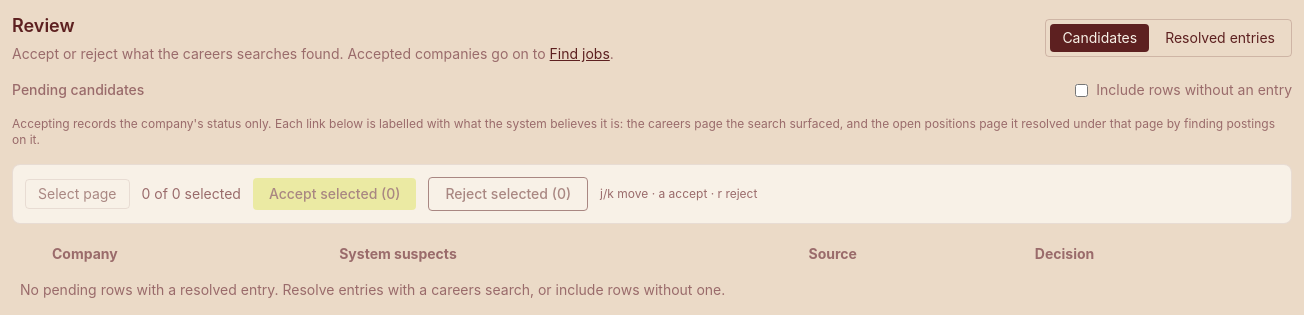
it: demo review screen › says so when no entry has been resolved yet
This screenshot has width=1304, height=315.
Click the tab "Resolved entries" at (1220,38), box [1153,24,1287,52]
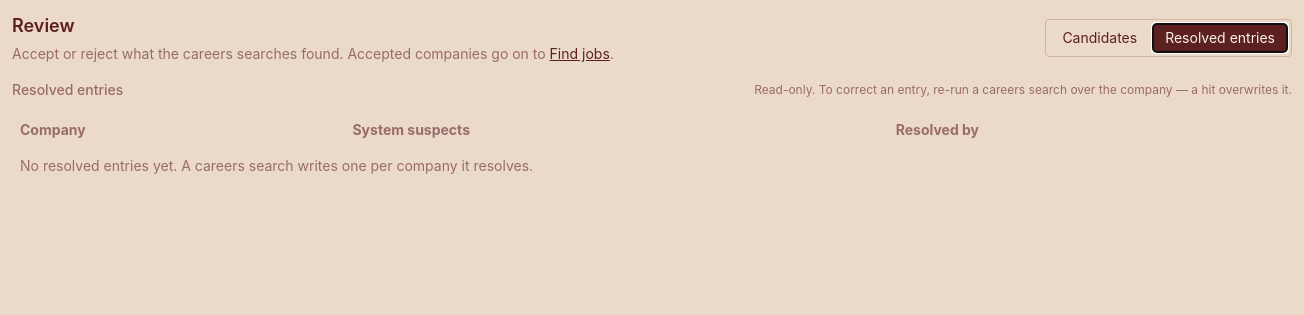
Now the text "No resolved entries yet" is shown, box [20,157,533,174]
